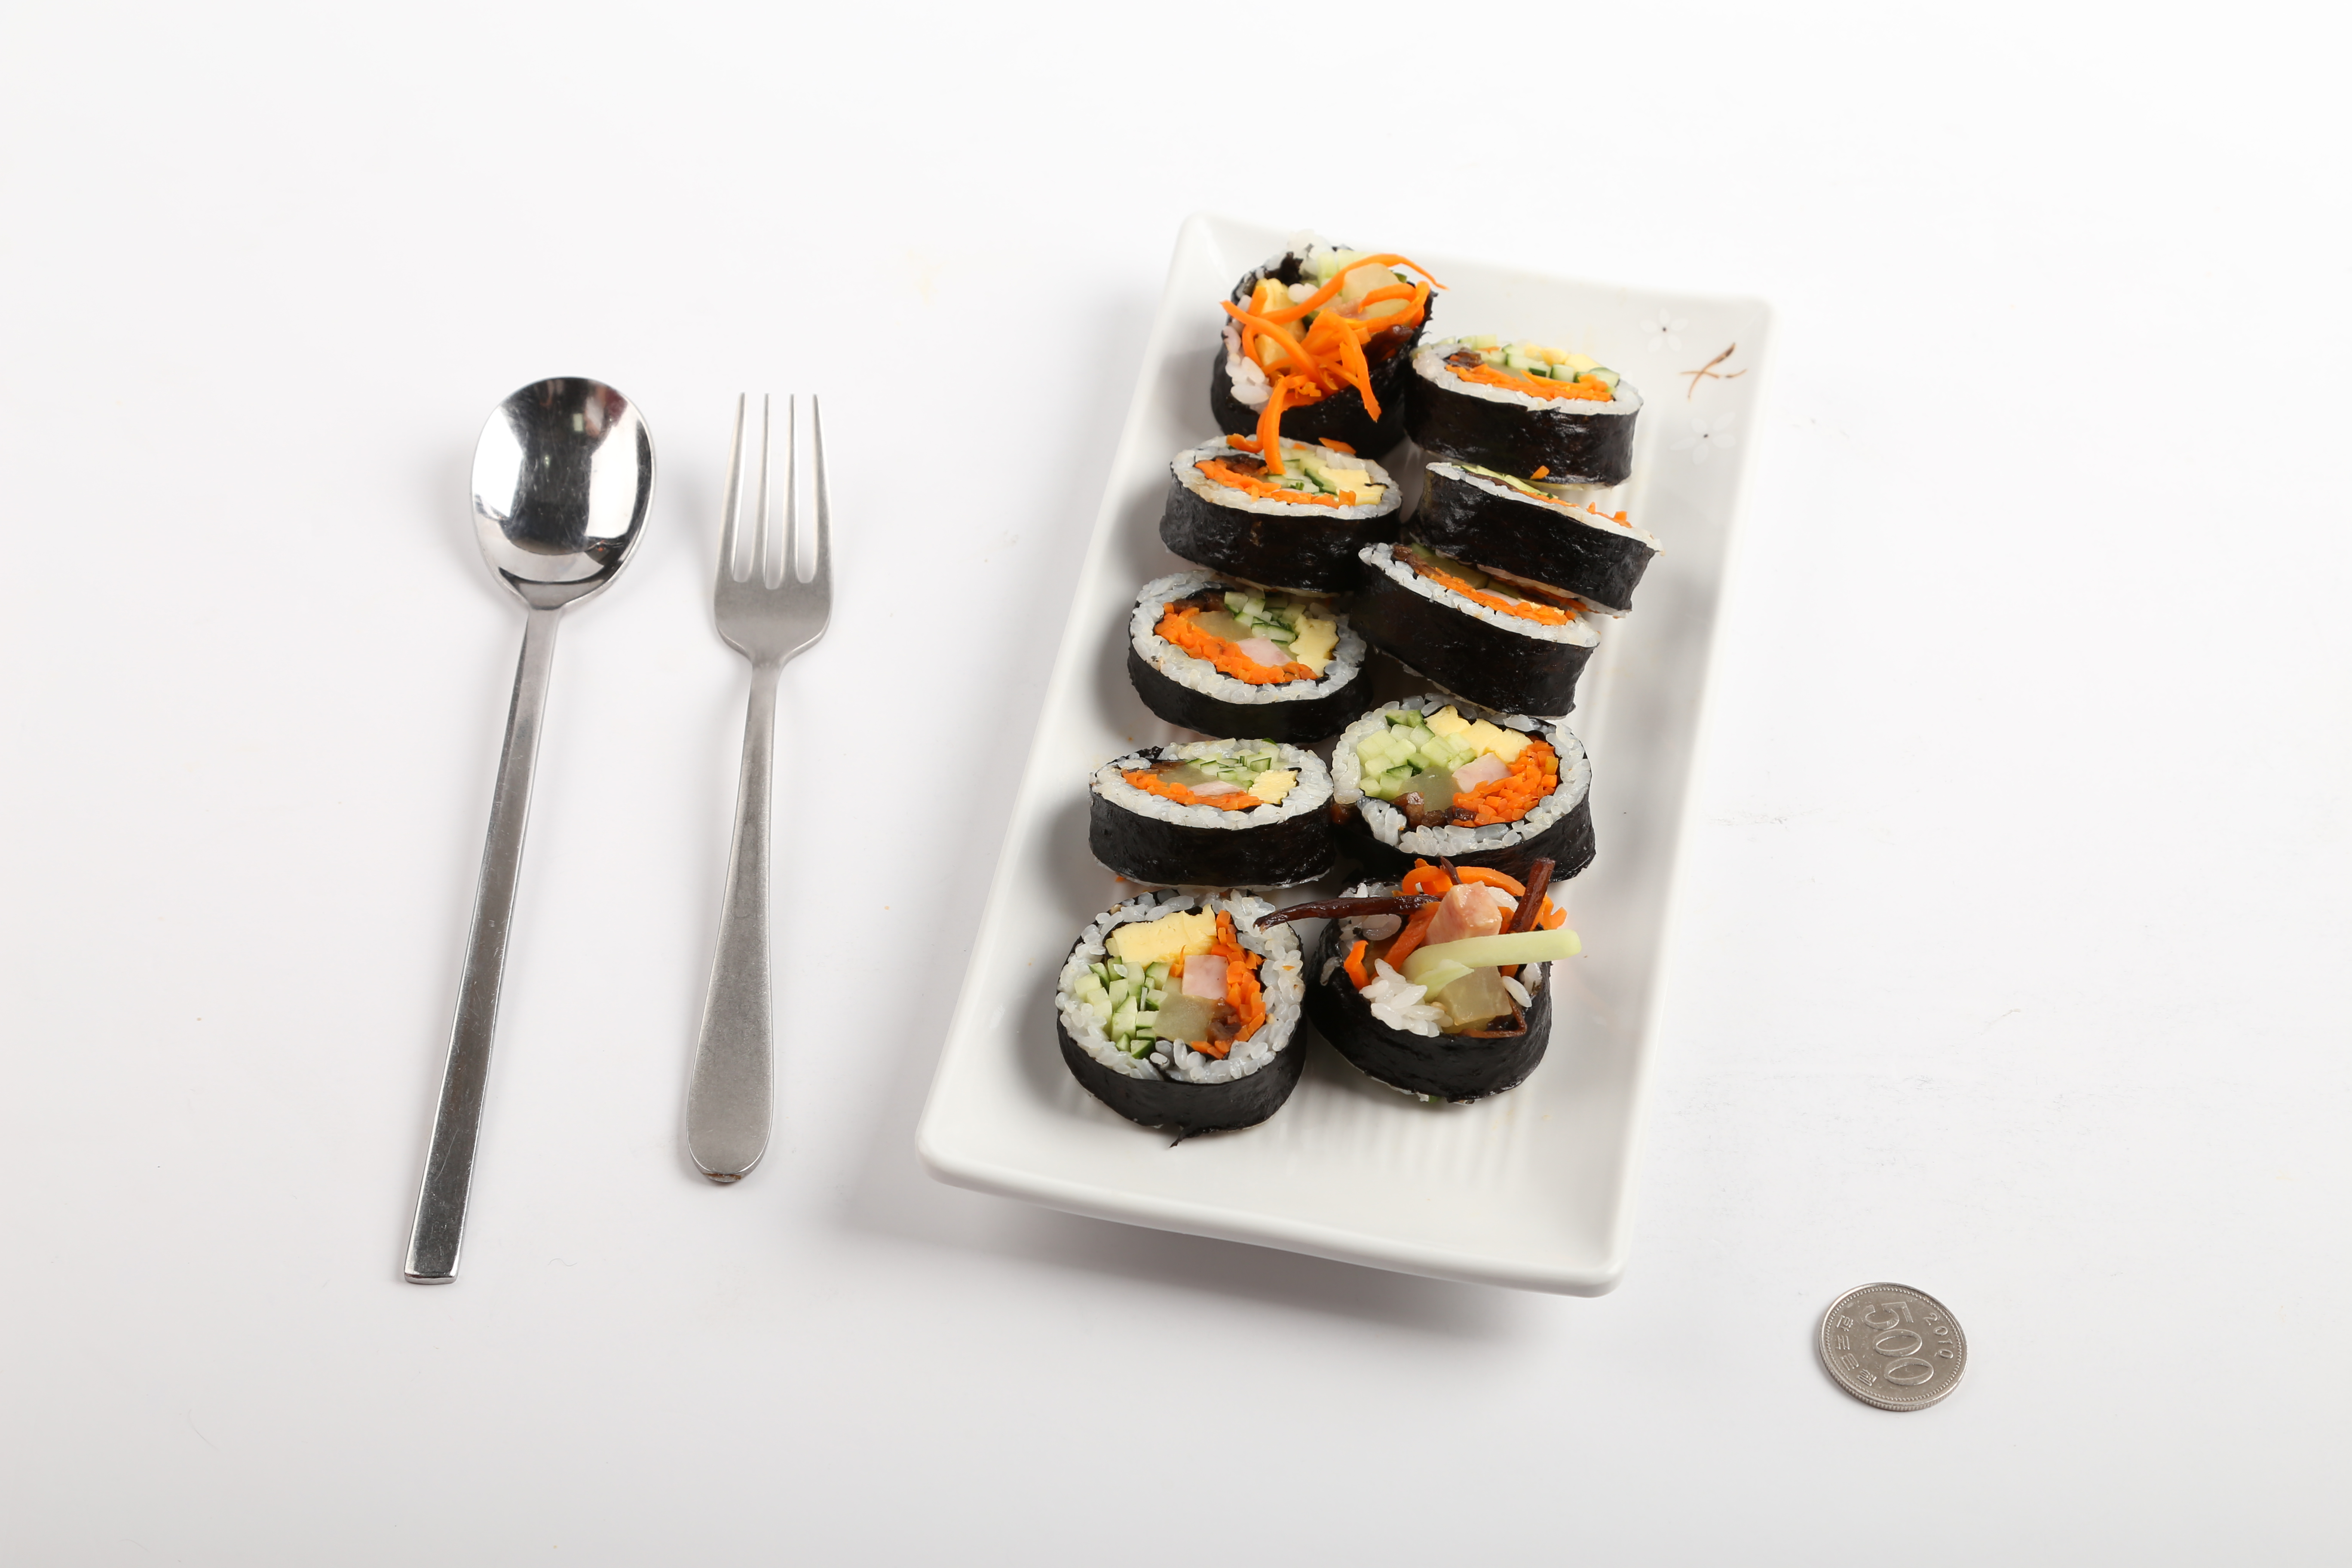dish: (910, 203, 1743, 1295)
ref_coin: (1809, 1274, 1970, 1416)
ref_fork: (707, 390, 840, 710)
ref_spoon: (465, 369, 658, 646)
김밥: (1050, 247, 1657, 1150)
